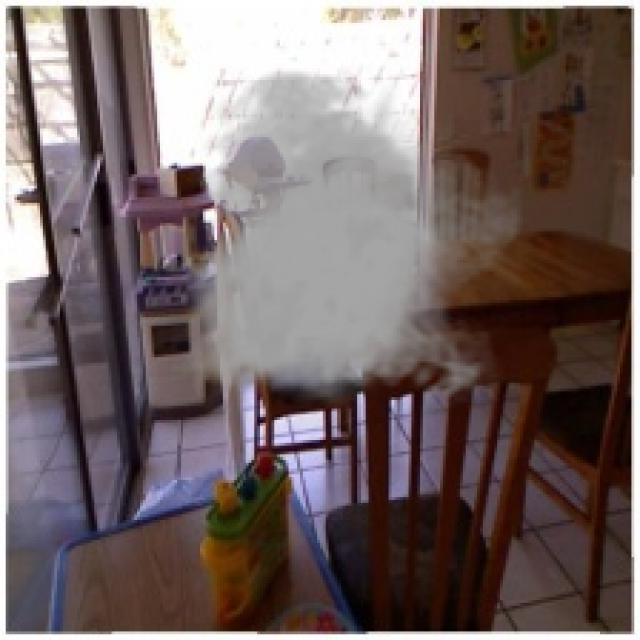smoke: (171, 66, 523, 408)
